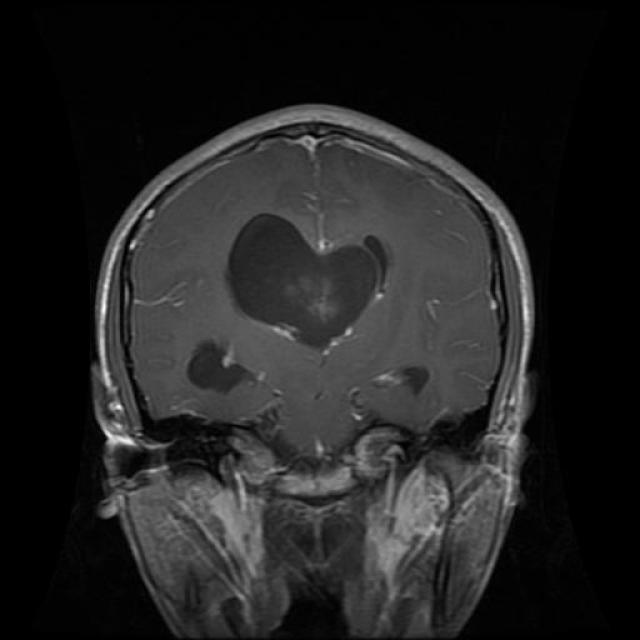glioma: (220, 206, 396, 352)
